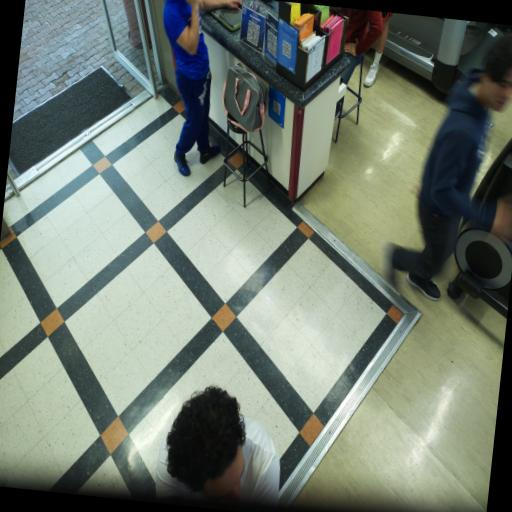person: (384, 35, 511, 300), (156, 387, 280, 506), (163, 0, 241, 175), (341, 8, 382, 83), (364, 12, 392, 87)
